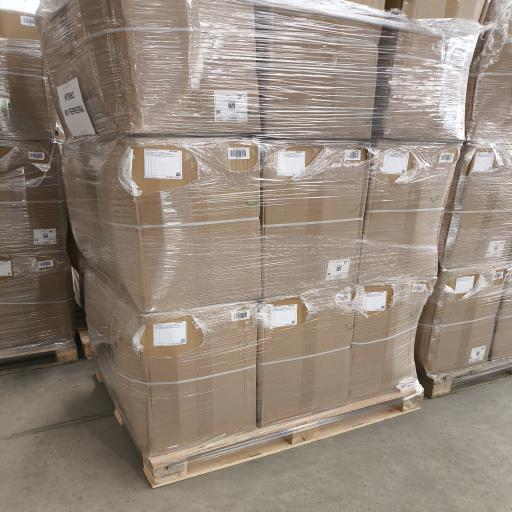pallet: (143, 392, 422, 488), (418, 358, 511, 398), (0, 345, 78, 375), (76, 305, 93, 359), (77, 325, 93, 359)
